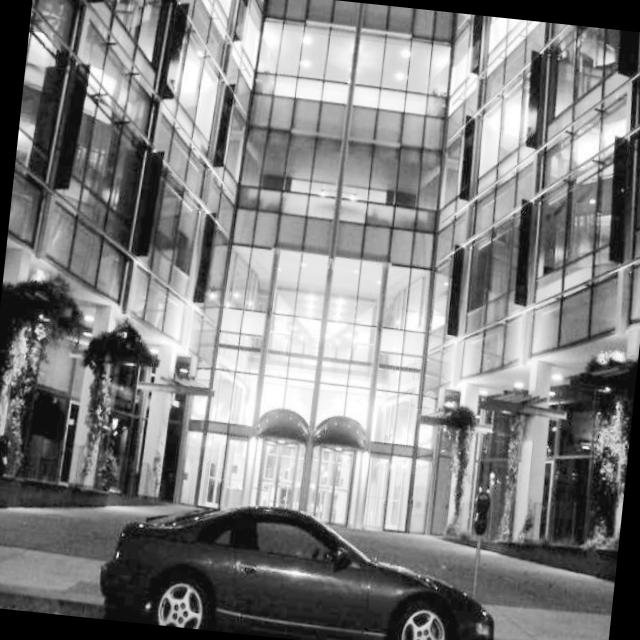Car: (73, 495, 510, 640)
